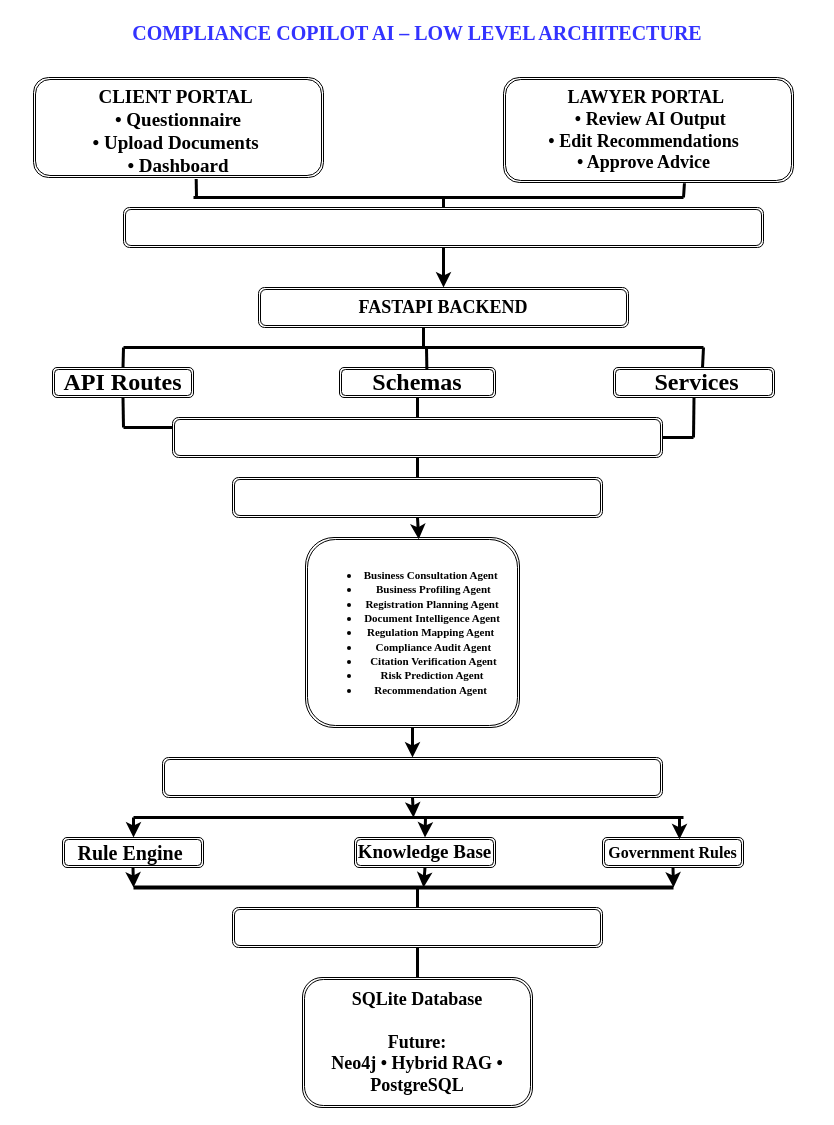
The diagram is 834 pixels wide and 1125 high, and some of its shapes have lost their labels. Each missing label, with the centre of its shape:
"AGENT ORCHESTRATION LAYER" belongs at (x=417, y=437).
"AGENT ORCHESTRATOR" belongs at (x=417, y=497).
"APPLICATION LAYER" belongs at (x=443, y=227).
"KNOWLEDGE & COMPLIANCE LAYER" belongs at (x=412, y=777).
"PERSISTENCE LAYER" belongs at (x=417, y=927).
